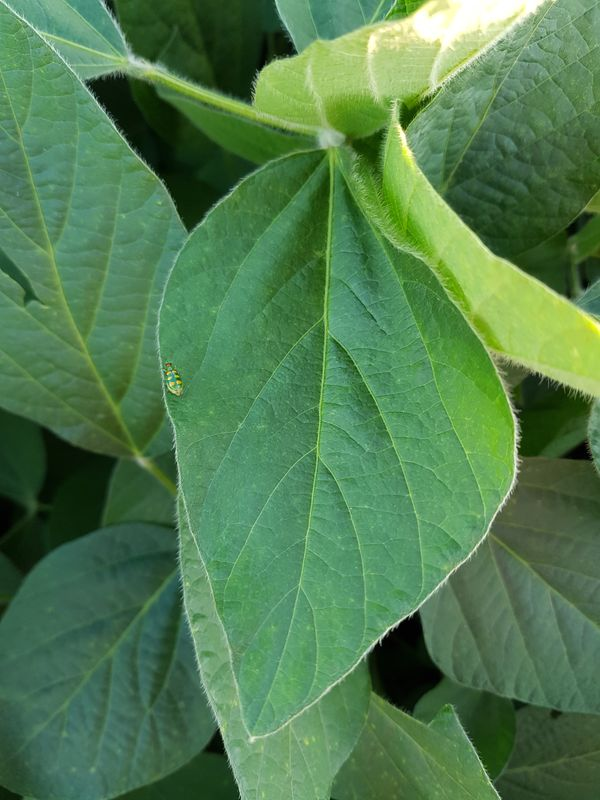Diabrotica_speciosa: (150, 355, 194, 407)
